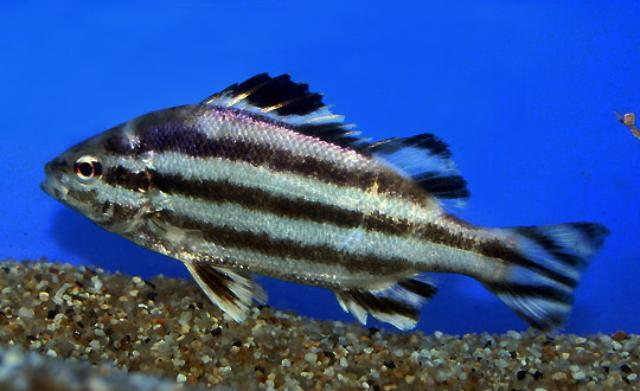Mulut: (29, 149, 71, 205)
Sirip Anal: (331, 266, 442, 340)
Sirip Dada: (139, 202, 219, 262)
Sirip Ekor: (482, 197, 612, 343)
Sirip Perut: (180, 248, 278, 328)
Sirip Punggung: (205, 63, 480, 213)
